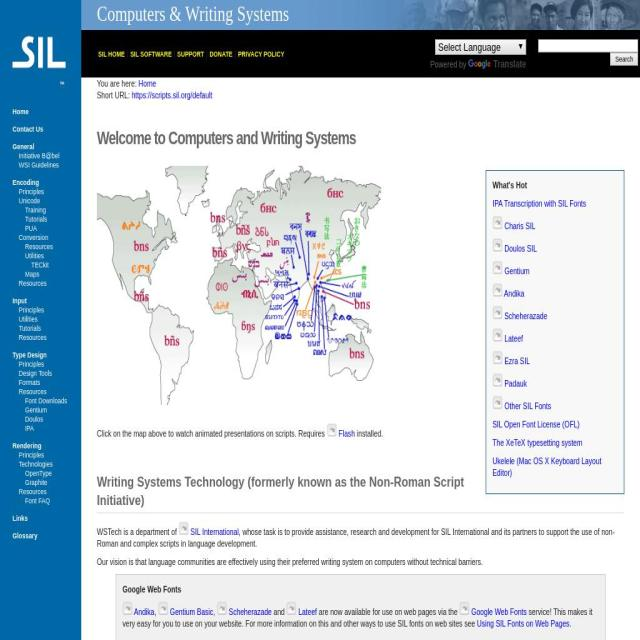field: (435, 39, 526, 55), (538, 39, 638, 53), (610, 52, 638, 66)
heading: (97, 472, 624, 510), (97, 128, 624, 150)
image: (97, 166, 381, 406), (12, 8, 66, 88), (468, 58, 492, 71), (326, 423, 337, 438), (178, 522, 189, 536), (286, 602, 297, 616), (459, 602, 470, 616), (492, 373, 502, 388), (492, 216, 502, 230), (492, 238, 502, 252), (492, 261, 502, 275), (492, 284, 502, 298), (492, 306, 502, 320), (492, 328, 502, 342), (492, 351, 502, 365), (492, 396, 502, 410), (122, 602, 132, 616), (158, 602, 168, 616), (217, 602, 227, 616)
link: (492, 456, 602, 478), (492, 198, 586, 210), (477, 618, 570, 630), (492, 419, 580, 430), (492, 438, 582, 448), (132, 90, 212, 100), (238, 50, 284, 58), (25, 397, 67, 405), (130, 50, 172, 58), (19, 152, 59, 160), (19, 161, 59, 169), (19, 369, 52, 378), (12, 351, 47, 359), (18, 460, 52, 468), (19, 233, 48, 242), (12, 178, 40, 187), (25, 242, 53, 251), (19, 279, 47, 288), (19, 333, 47, 342), (19, 387, 47, 396), (19, 487, 47, 496), (25, 469, 52, 478), (13, 125, 43, 133), (18, 187, 44, 196), (13, 442, 42, 450), (98, 50, 125, 58), (177, 50, 204, 58), (18, 306, 44, 314), (18, 360, 44, 368), (18, 451, 44, 459), (12, 532, 38, 540), (18, 324, 41, 333), (25, 497, 50, 505), (12, 142, 34, 151), (25, 478, 47, 487), (209, 50, 233, 58), (19, 378, 40, 387), (138, 78, 156, 88), (25, 215, 47, 223), (25, 406, 47, 414), (19, 197, 40, 205), (25, 206, 46, 214), (18, 315, 38, 323), (25, 252, 44, 260), (12, 107, 28, 116), (31, 261, 49, 269), (25, 415, 43, 423), (12, 514, 28, 523), (12, 297, 27, 305), (25, 270, 39, 278), (25, 224, 37, 233), (25, 424, 34, 433)
text: (97, 527, 615, 549), (97, 0, 640, 20), (122, 607, 592, 629), (97, 556, 624, 568), (122, 583, 598, 596), (97, 428, 327, 439), (317, 606, 460, 618), (97, 526, 179, 538), (470, 606, 528, 618), (188, 526, 239, 538), (502, 310, 548, 322), (502, 401, 552, 412), (168, 606, 213, 618), (227, 606, 272, 618), (97, 78, 139, 88), (493, 58, 527, 70), (502, 220, 536, 232), (430, 59, 469, 69), (492, 180, 527, 191), (502, 243, 537, 254), (97, 90, 132, 100), (354, 428, 384, 439), (502, 266, 530, 276), (502, 356, 530, 366), (502, 378, 527, 389), (502, 288, 524, 300), (132, 606, 154, 618), (296, 606, 318, 618), (336, 428, 355, 439), (503, 334, 523, 344), (272, 606, 286, 618), (124, 48, 130, 58), (172, 48, 178, 58), (204, 48, 210, 58), (213, 606, 218, 618), (233, 48, 238, 58), (154, 606, 158, 618), (569, 618, 572, 630)
